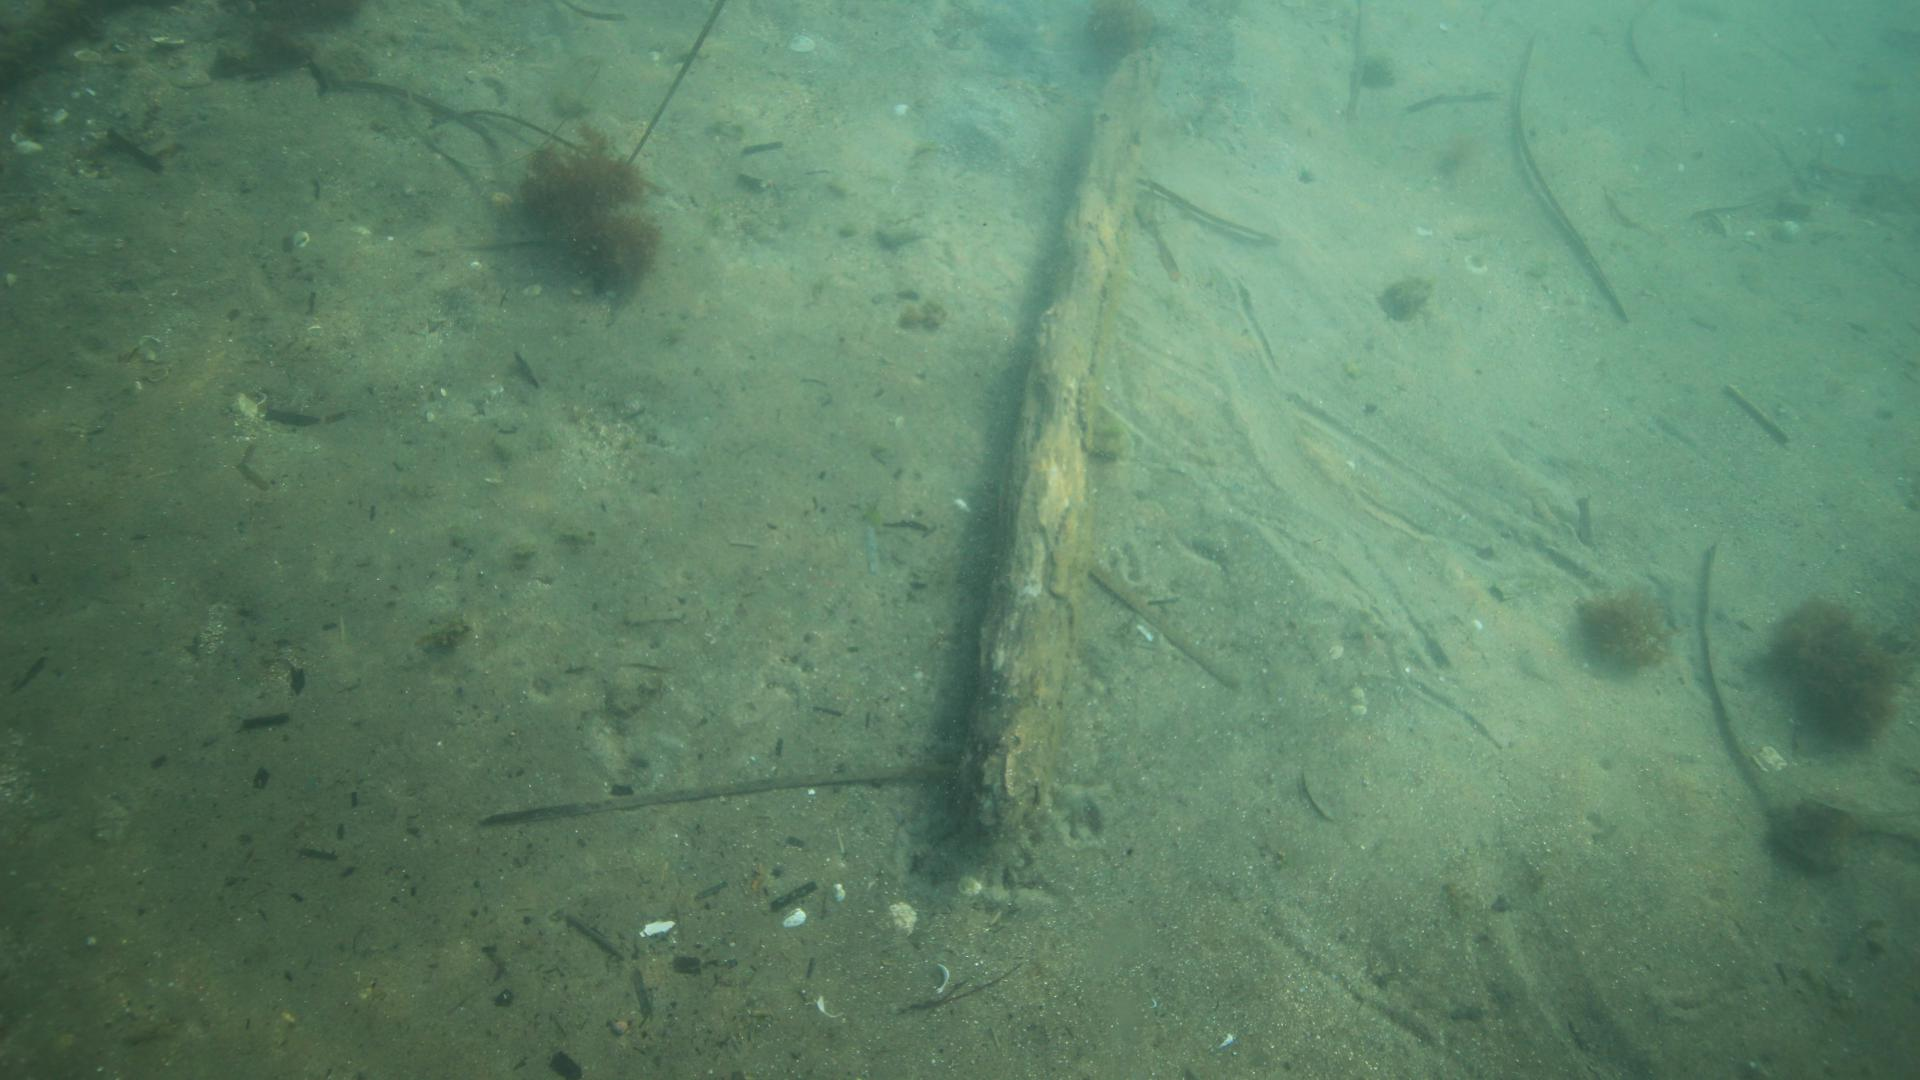wood: (943, 40, 1166, 839)
